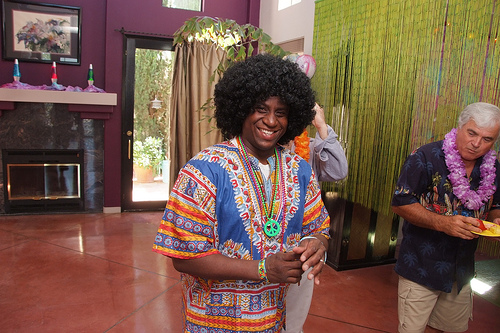without_mask: (243, 91, 288, 150), (455, 115, 499, 162)
